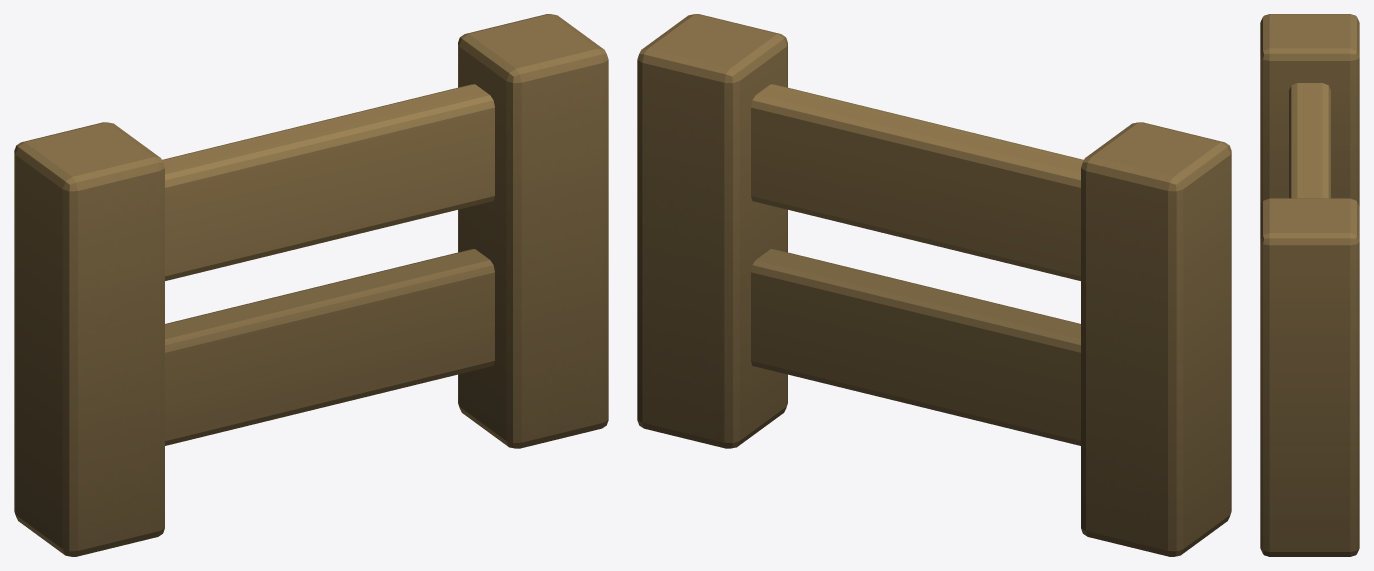
File: Fence_E1.glb
3 renders of one model, left to right at view 1: azimuth 30°, elevation 25°; view 2: azimuth 150°, elevation 25°; view 3: azimuth 270°, elevation 25°, orthographic. The views are drawn at different scales.
Visible parts, largest first — view 1: Fence_E1.003; view 2: Fence_E1.003; view 3: Fence_E1.003.
Boxes of the visible parts, box(x1,y1,x2,y2) form: Fence_E1.003: box(14, 14, 608, 556); Fence_E1.003: box(637, 14, 1231, 556); Fence_E1.003: box(1260, 14, 1359, 556).
Size of the model in its own units: 2 by 1.34 by 0.3721.
Materials: 1 (1 with a texture image).
